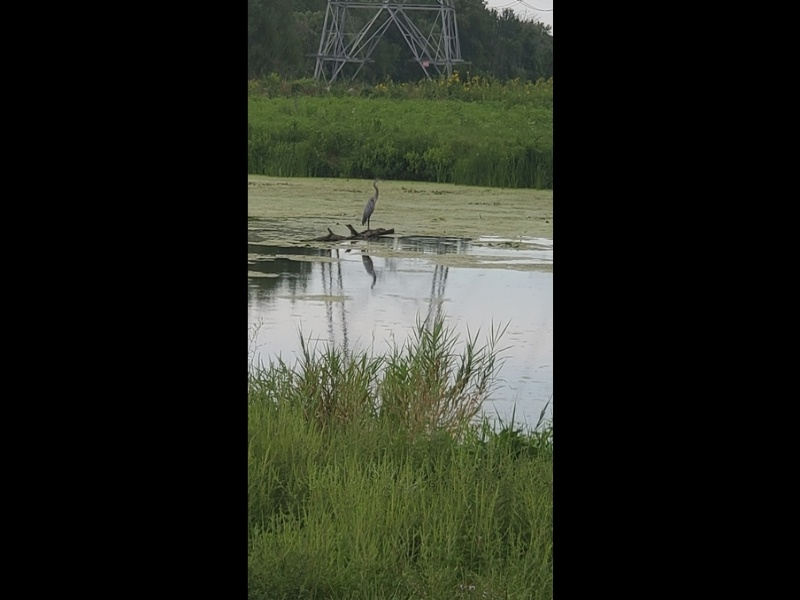heron: (362, 177, 382, 232)
